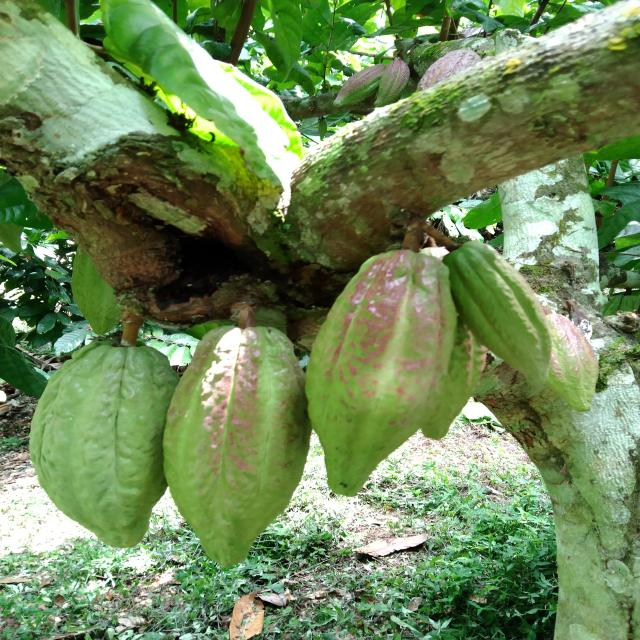Sana: (303, 250, 455, 498), (163, 326, 309, 568), (26, 342, 176, 553), (444, 242, 559, 400), (524, 312, 602, 408)
